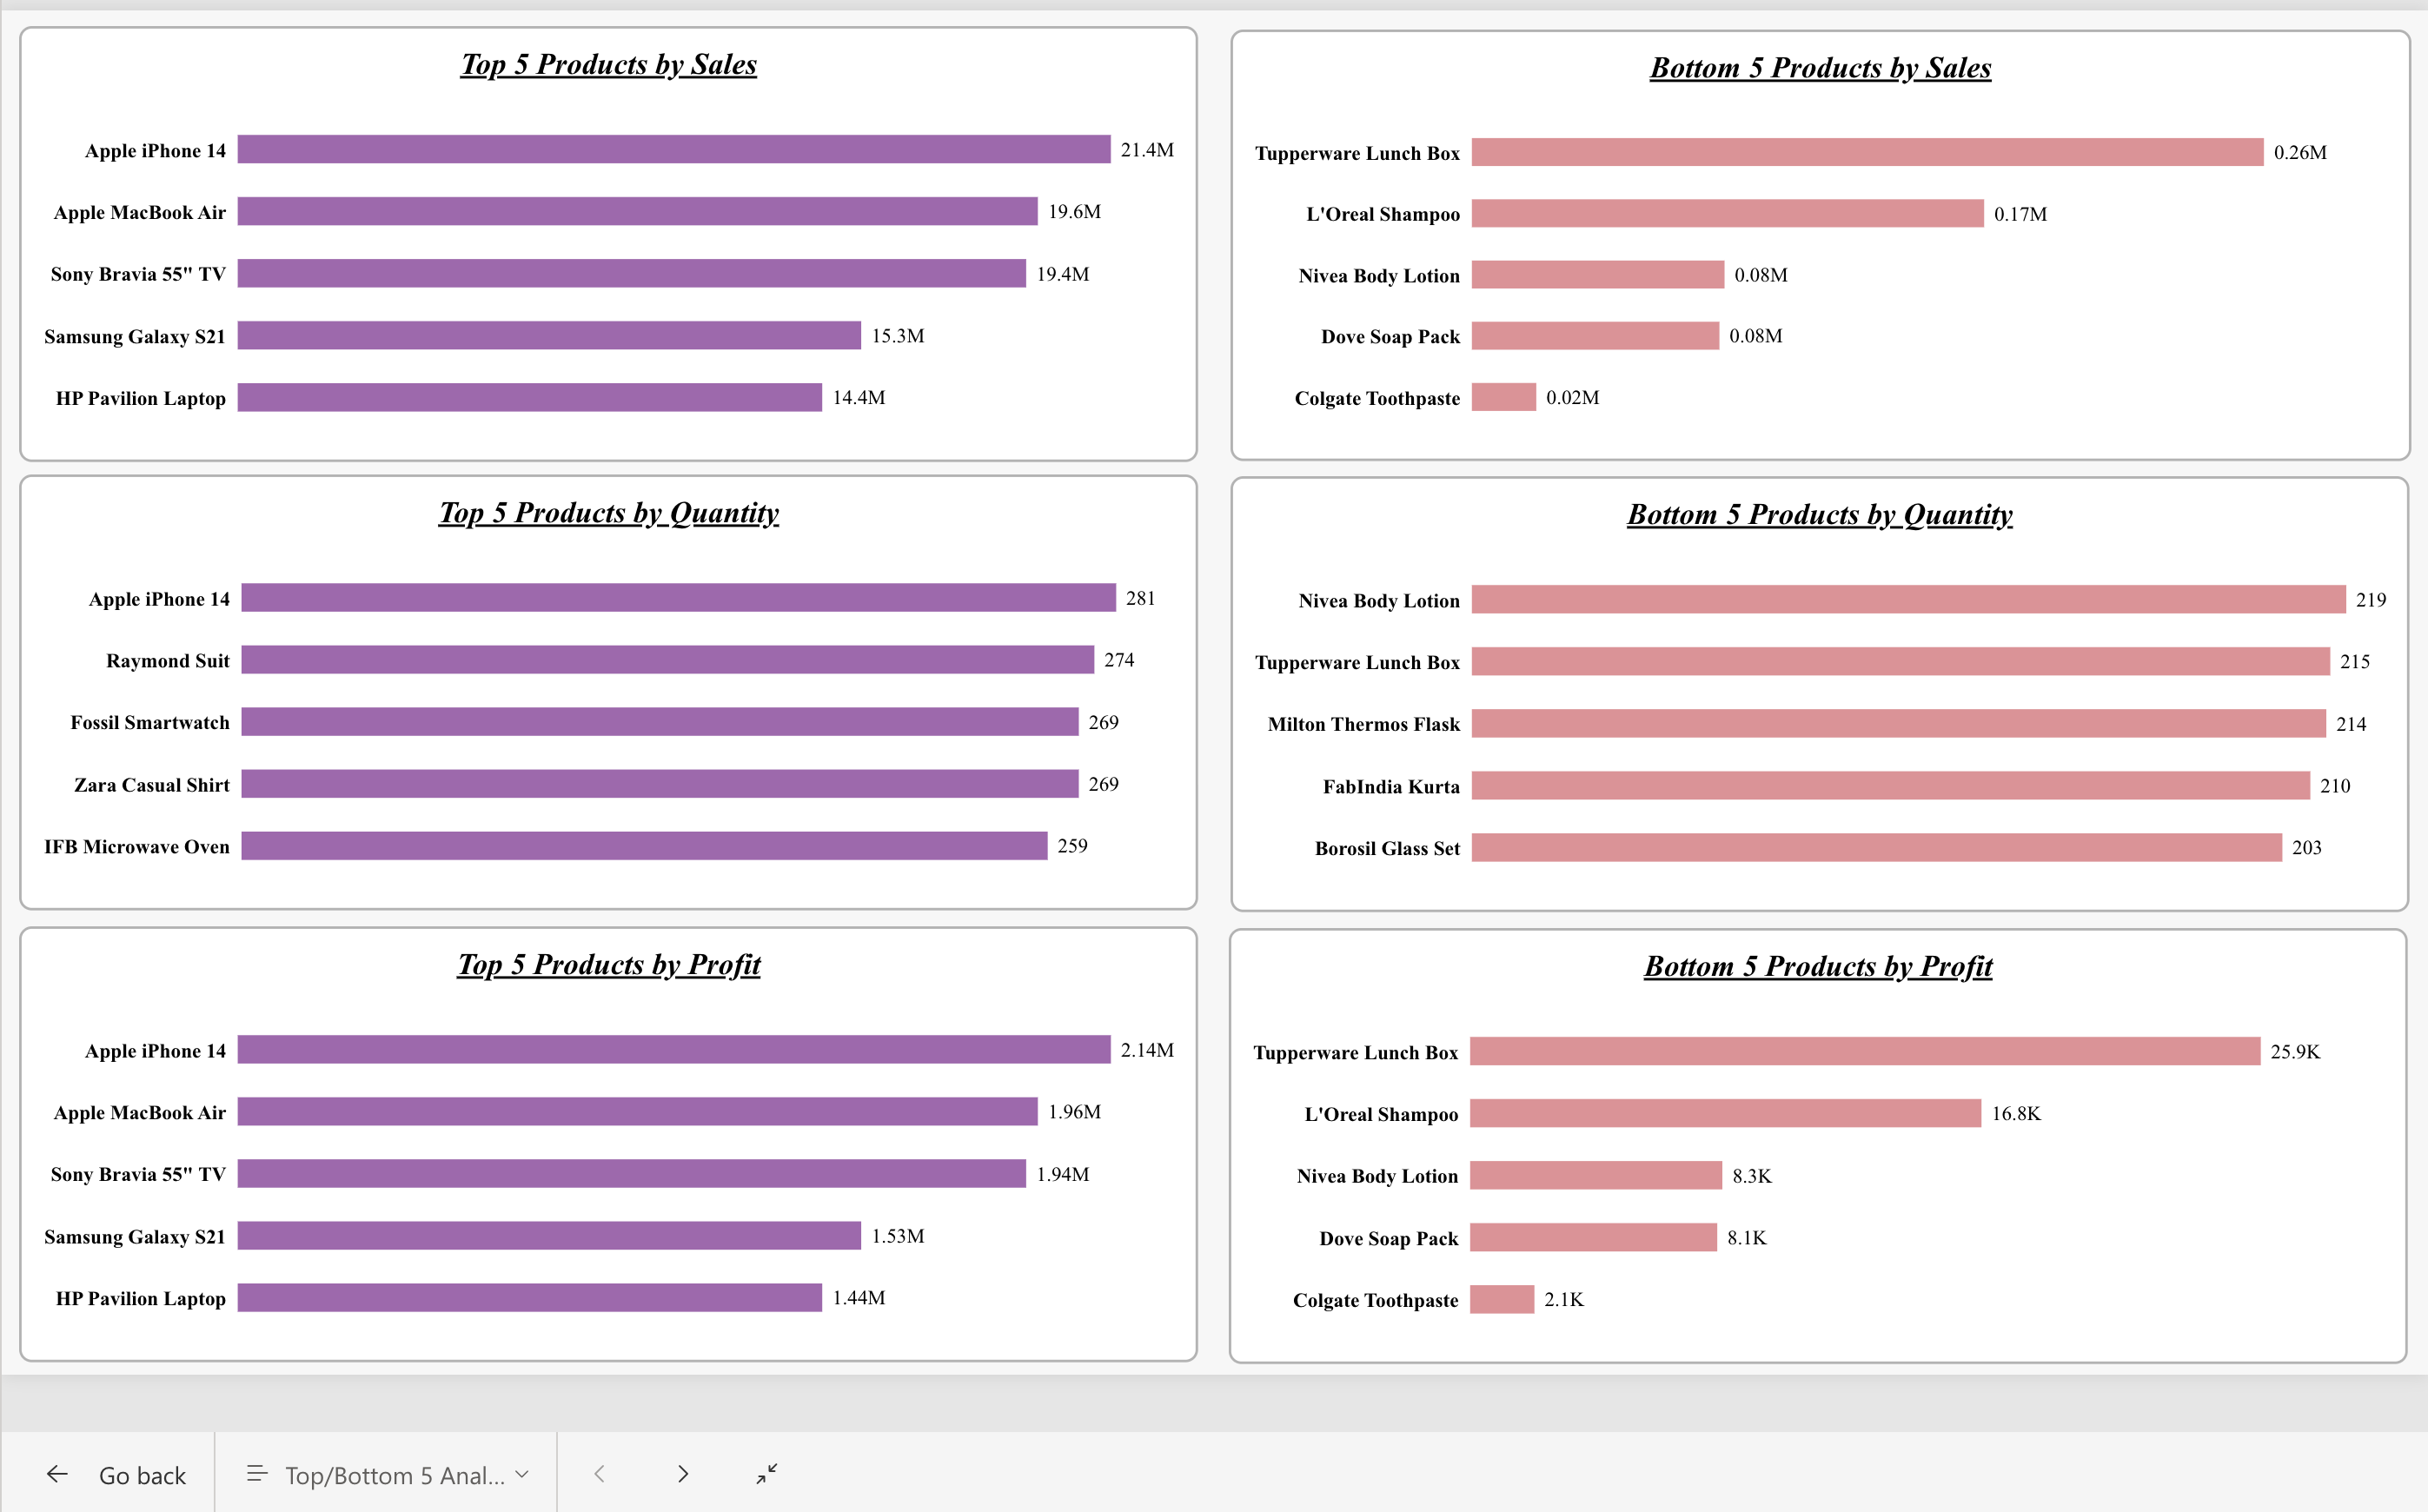

This screenshot's page, from the dashboard's own definition file:
{"tool":"powerbi","page":{"name":"Top/Bottom 5 Analysis","canvas":[1920,1080],"ordinal":0},"visuals":[{"type":"barChart","title":"Top 5 Products by Sales","fields":{"Category":["Dim Product.Product Name"],"Y":["Sum(Fact Table.Net Sales)"]},"box":[14,12.3,933,344.8],"z":0},{"type":"barChart","title":"Bottom 5 Products by Sales","fields":{"Category":["Dim Product.Product Name"],"Y":["Sum(Fact Table.Net Sales)"]},"box":[972.4,15.3,934.3,341.3],"z":1000},{"type":"barChart","title":"Top 5 Products by Quantity","fields":{"Category":["Dim Product.Product Name"],"Y":["Sum(Fact Table.Units Sold)"]},"box":[14,367.6,933,344.8],"z":2000},{"type":"barChart","title":"Top 5 Products by Profit","fields":{"Category":["Dim Product.Product Name"],"Y":["Sum(Fact Table.Profit)"]},"box":[14,724.7,933,344.8],"z":3000},{"type":"barChart","title":"Bottom 5 Products by Quantity","fields":{"Category":["Dim Product.Product Name"],"Y":["Sum(Fact Table.Units Sold)"]},"box":[972.4,368,933,344.8],"z":4000},{"type":"barChart","title":"Bottom 5 Products by Profit","fields":{"Category":["Dim Product.Product Name"],"Y":["Sum(Fact Table.Profit)"]},"box":[970.5,726.4,933,344.8],"z":5000}]}

Visuals, with their boxes on the page's 1920x1080 design canvas (x1, y1, x2, y2). These are canvas units, not pixel positions in the 2428x1512 screenshot, which may show the page scaled, cropped or inside an application window:
"Top 5 Products by Sales" barChart: 14,12,947,357
"Bottom 5 Products by Sales" barChart: 972,15,1907,357
"Top 5 Products by Quantity" barChart: 14,368,947,712
"Top 5 Products by Profit" barChart: 14,725,947,1070
"Bottom 5 Products by Quantity" barChart: 972,368,1905,713
"Bottom 5 Products by Profit" barChart: 970,726,1904,1071
